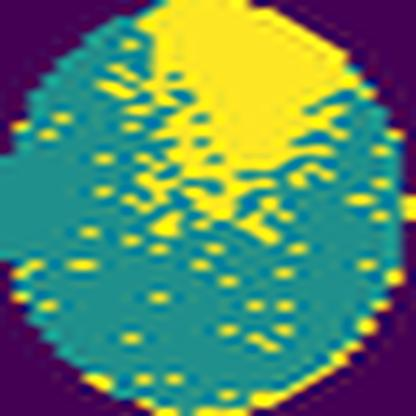Edge-Loc: (121, 0, 359, 241)
